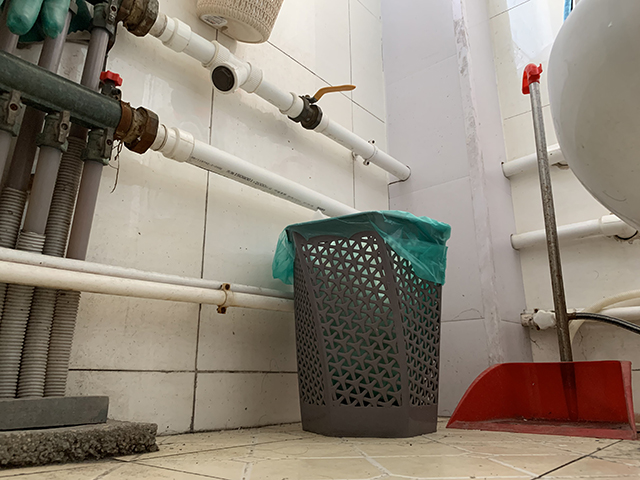trashcan: (285, 208, 453, 439)
